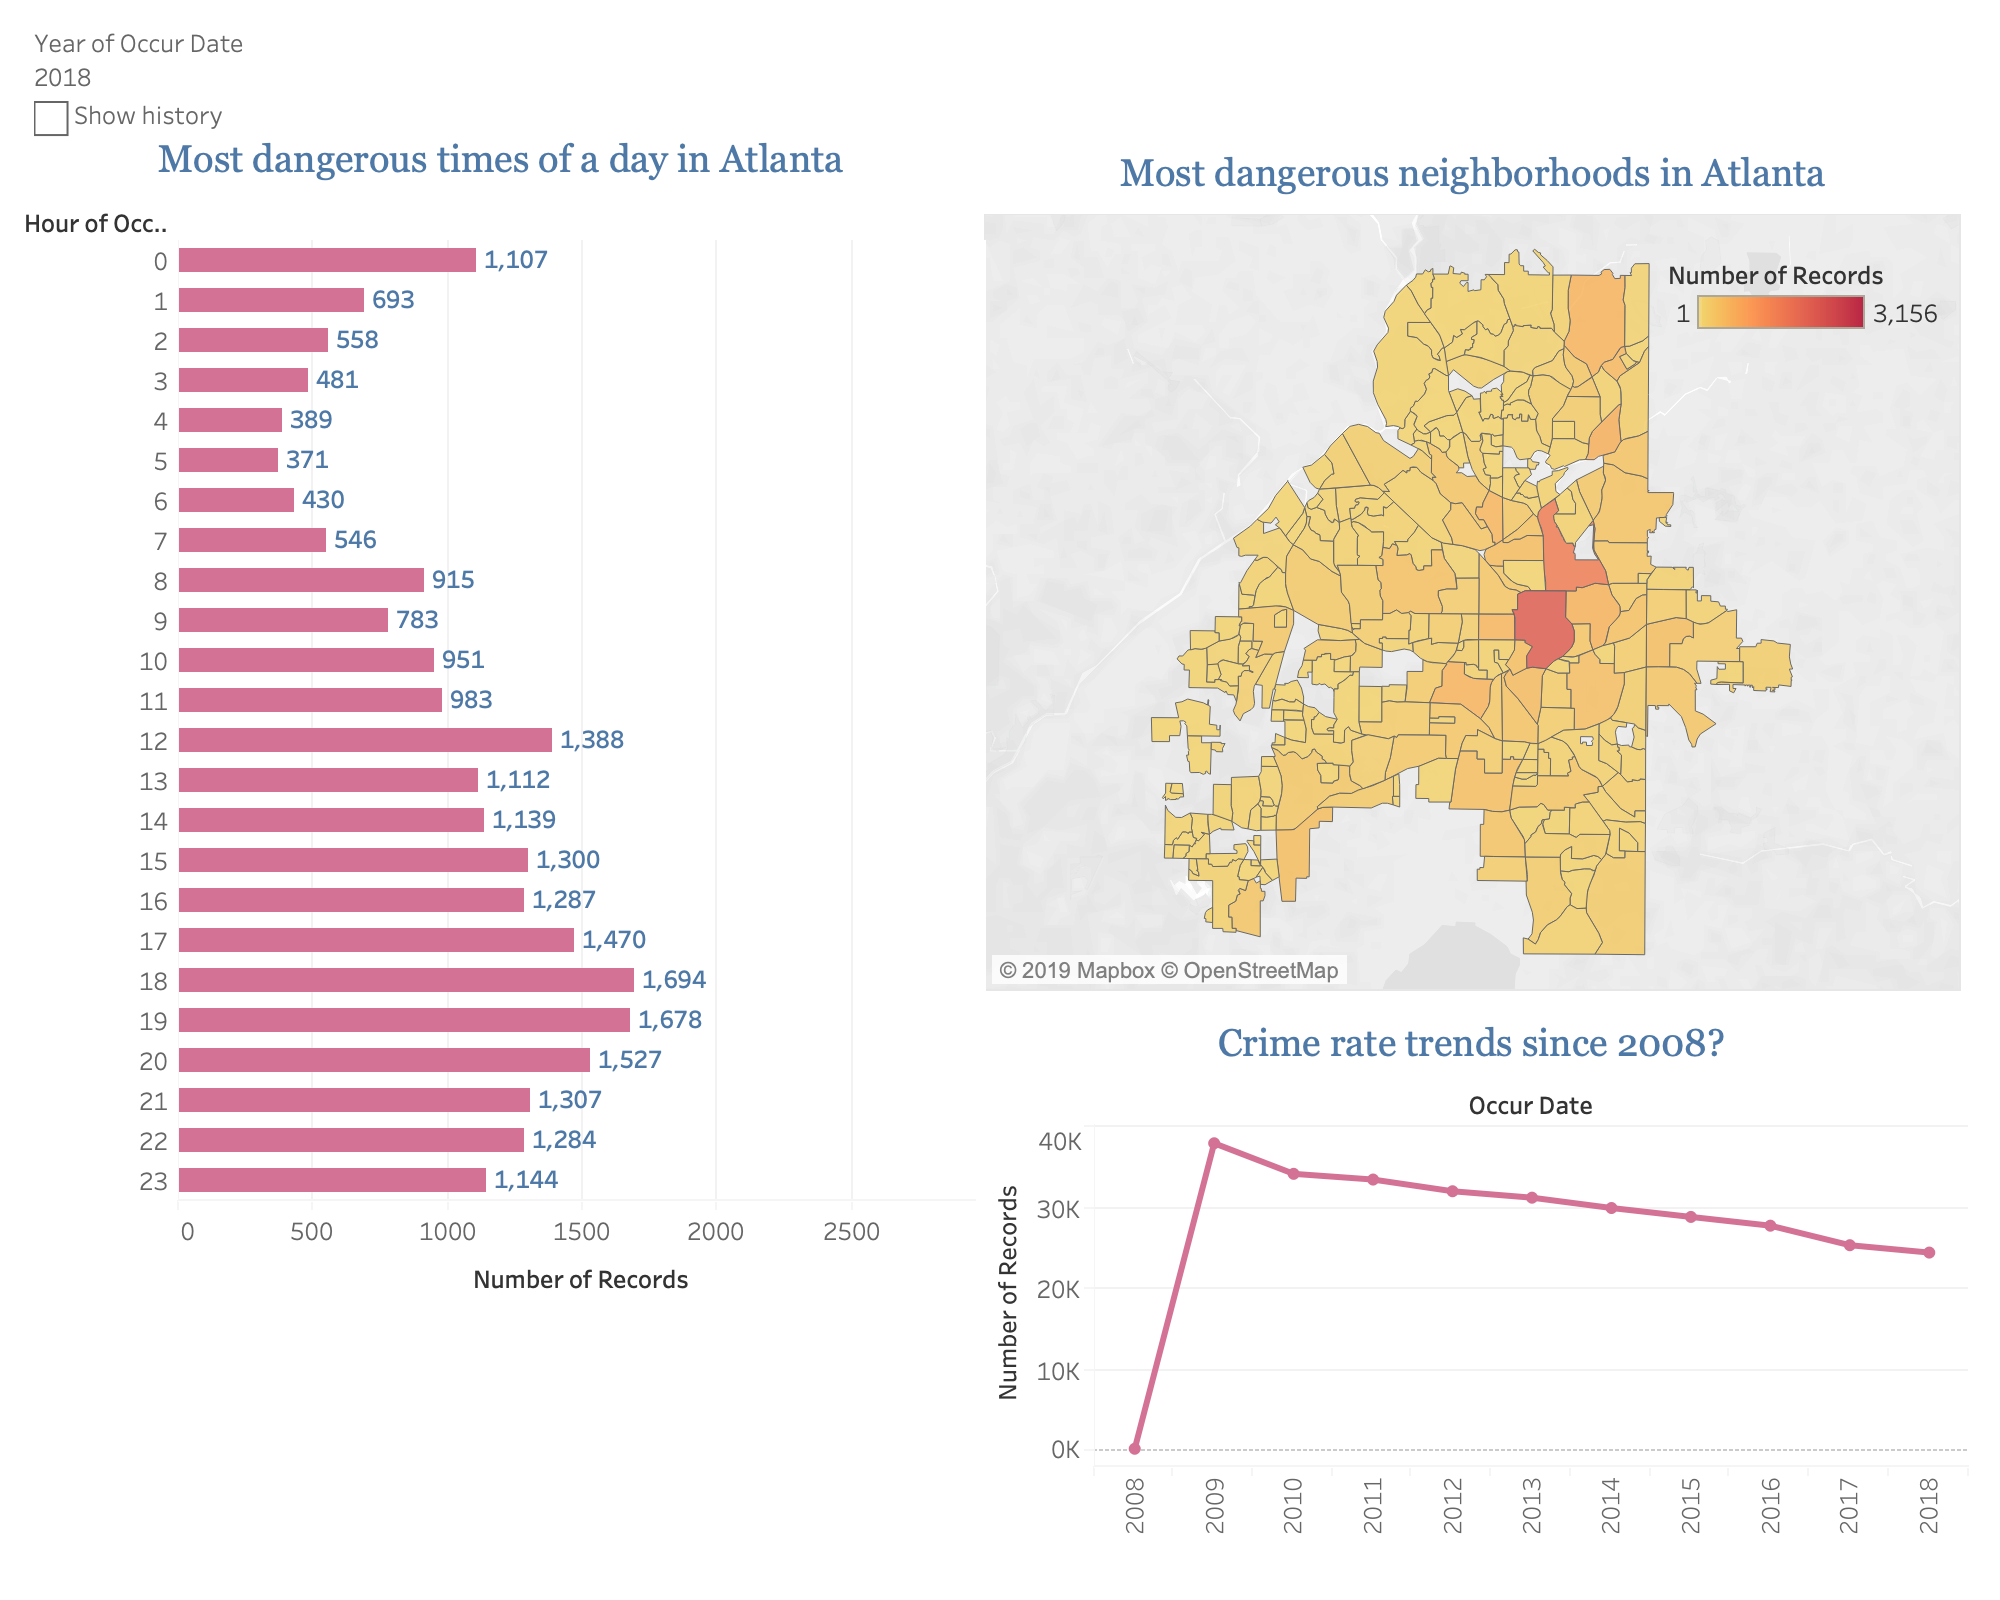

Layout of this report page (visuals, bound fields, positions):
{"tool":"tableau","page":{"name":"Dashboard 1","canvas":[1000,800],"ordinal":0},"visuals":[{"type":"currpage","title":"Sheet 2","box":[17,12,963,59]},{"type":"worksheet","title":"Sheet 3","mark":"Bar","rows":["Calculation_120400966601433088"],"cols":["Number of Records"],"box":[9,63,483,707]},{"type":"worksheet","title":"Sheet 2","mark":"Automatic","box":[492,70,489,426]},{"type":"legend","title":"Sheet 2","param":"[federated.092mdz50oqx26711zvd6p11dkoyp].[sum:Number of Records:qk]","box":[834,125,140,76]},{"type":"worksheet","title":"Sheet 4","mark":"Line","rows":["Number of Records"],"cols":["Occur Date"],"box":[488,505,496,268]}]}

Visuals, with their boxes in screenshot pixels (x1, y1, x2, y2), scaled from the page's 1000x800 canvas onto the 2000x1600 screenshot:
"Sheet 2" currpage: {"x1": 34, "y1": 24, "x2": 1960, "y2": 142}
"Sheet 3" worksheet (Bar marks): {"x1": 18, "y1": 126, "x2": 984, "y2": 1540}
"Sheet 2" worksheet: {"x1": 984, "y1": 140, "x2": 1962, "y2": 992}
"Sheet 2" legend: {"x1": 1668, "y1": 250, "x2": 1948, "y2": 402}
"Sheet 4" worksheet (Line marks): {"x1": 976, "y1": 1010, "x2": 1968, "y2": 1546}
